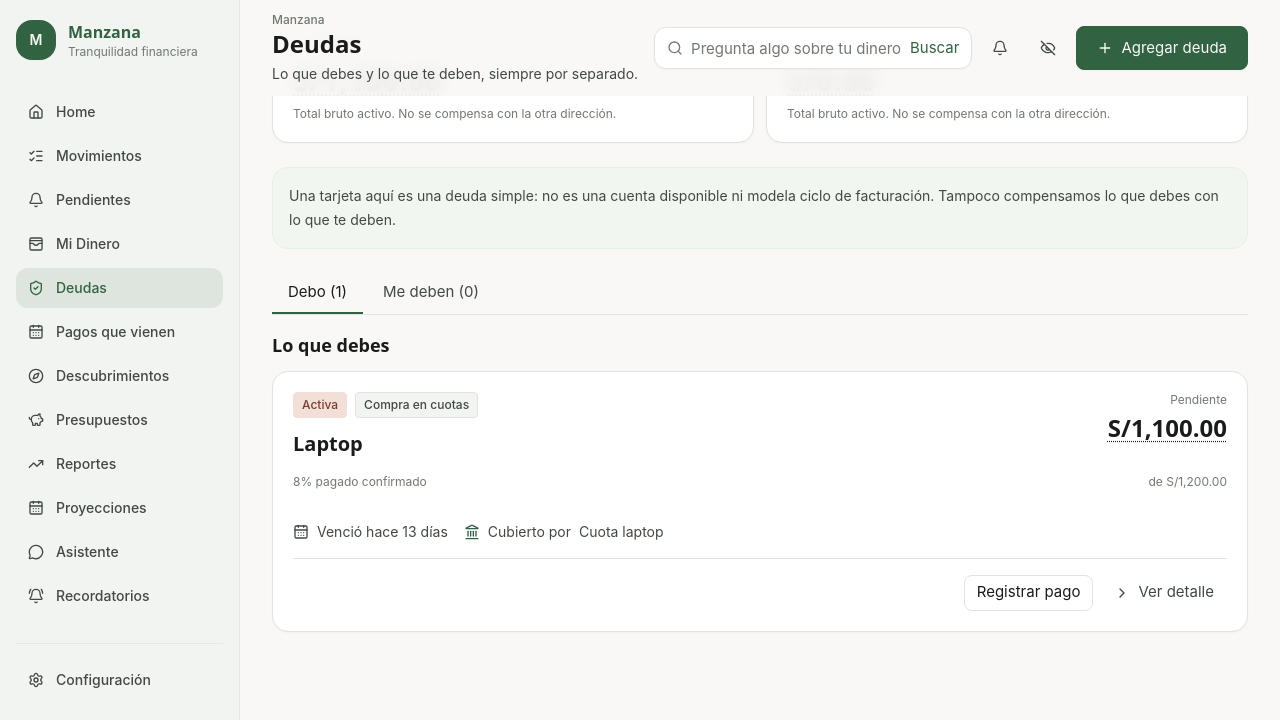
DebtsScreen W-11 › muestra caja vinculada pero declara que no la consume automáticamente
The image size is (1280, 720).
(page scrolled)
Click the button "Ver detalle": {"x": 1164, "y": 592} [1102,574,1227,610]
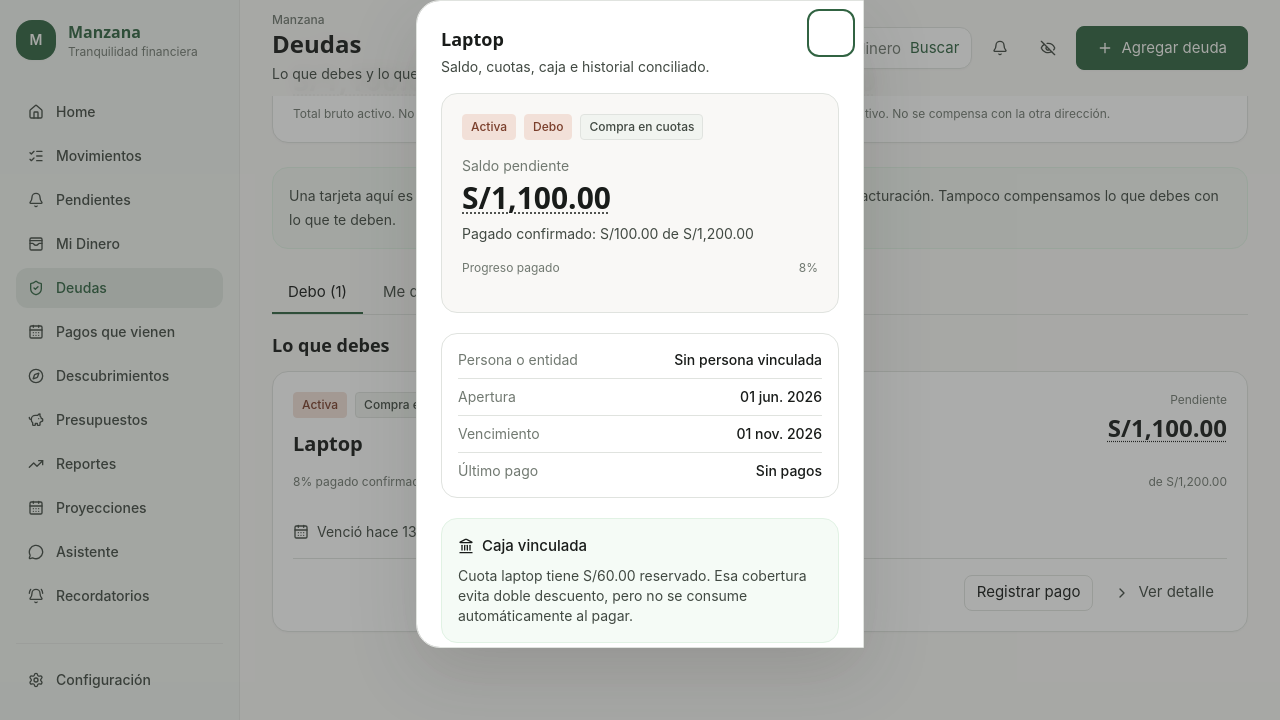
Expected: the text "Caja vinculada" is shown, [458,536,587,555]
Expected: the text "no se consume automáticamente" is shown, [458,566,807,624]
